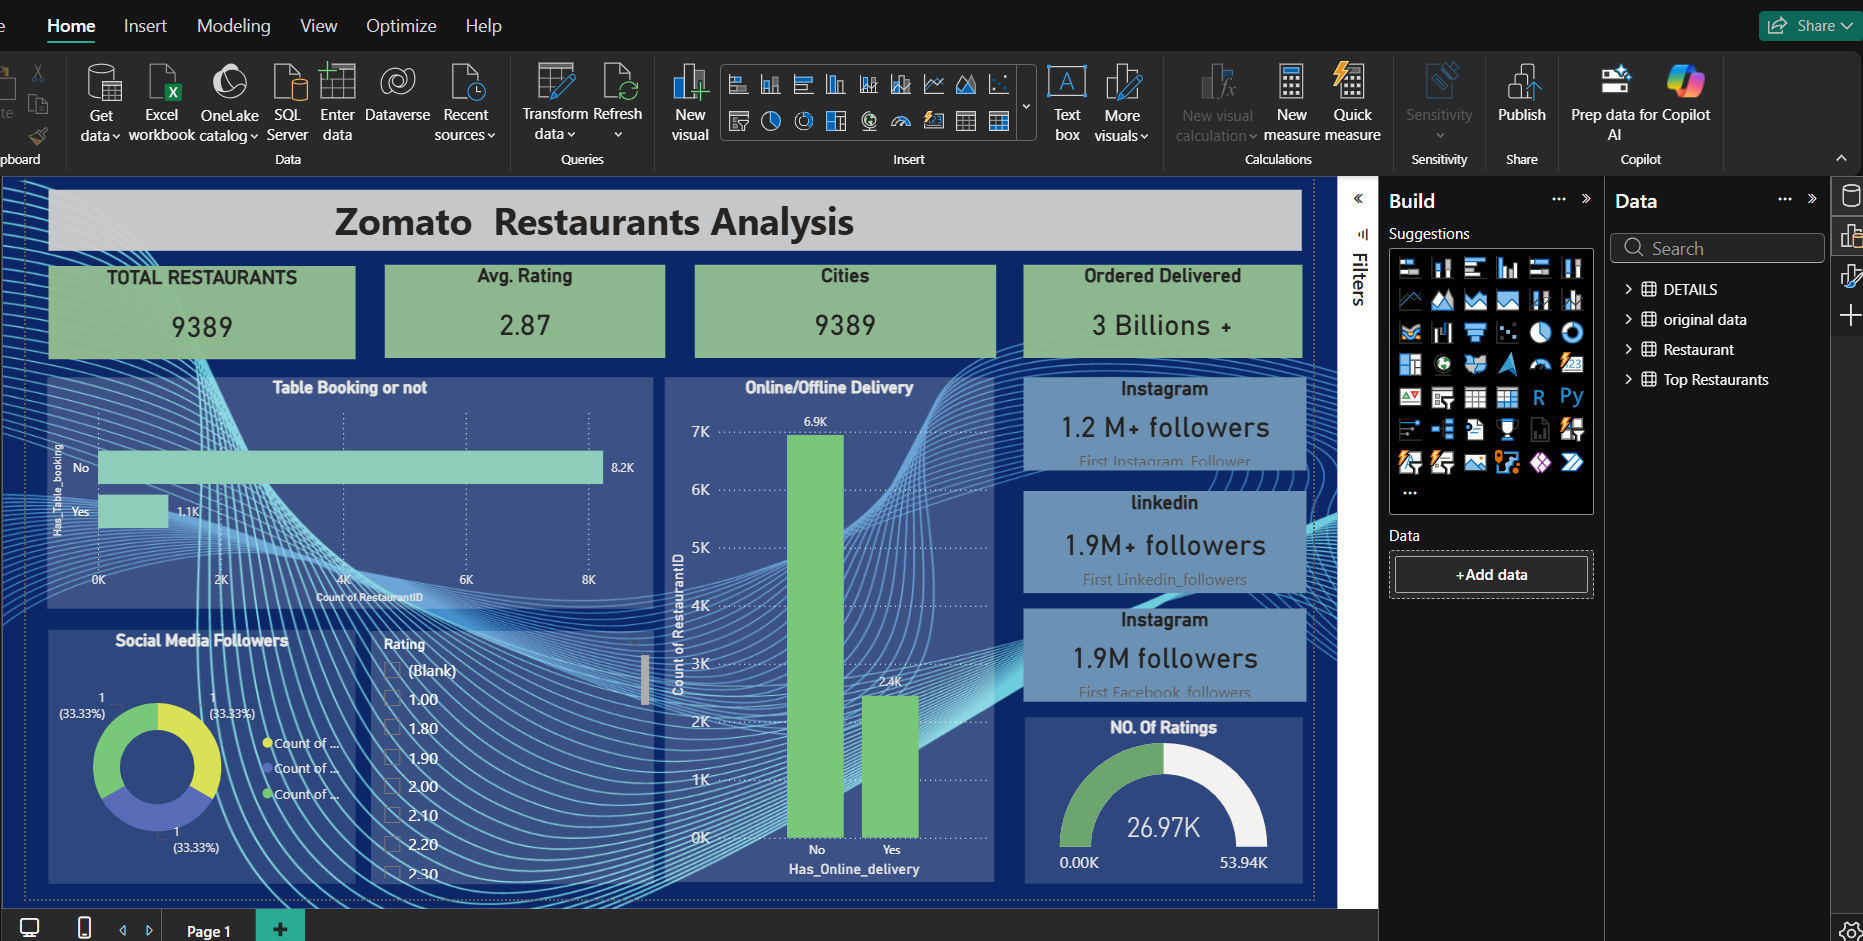

The dashboard page shown, as its layout file describes it:
{"tool":"powerbi","page":{"name":"Page 1","canvas":[1280,720],"ordinal":0},"visuals":[{"type":"card","title":"TOTAL RESTAURANTS","fields":{"Values":["CountNonNull(original data.RestaurantID)"]},"box":[22.3,89.1,305.8,93.2],"z":0},{"type":"card","title":"Avg. Rating","fields":{"Values":["Avg(original data.Rating)"]},"box":[357.1,88.4,279.5,93.2],"z":1000},{"type":"card","title":"Cities","fields":{"Values":["CountNonNull(original data.City)"]},"box":[665,88.4,299.7,93.2],"z":2000},{"type":"card","title":"Ordered Delivered","fields":{"Values":["Min(DETAILS.Ordered delevered)"]},"box":[993.1,88.4,277.5,93.2],"z":3000},{"type":"textbox","box":[22.3,14.2,1247.6,60.8],"z":4000},{"type":"card","title":"Instagram","fields":{"Values":["Min(DETAILS.Instagram_Follower)"]},"box":[993.1,199.8,281.5,93.2],"z":5000},{"type":"card","title":"linkedin","fields":{"Values":["Min(DETAILS.Linkedin_followers)"]},"box":[993.1,313.2,281.5,101.3],"z":6000},{"type":"card","title":"Instagram","fields":{"Values":["Min(DETAILS.Facebook_followers)"]},"box":[993.1,430.7,281.5,93.2],"z":7000},{"type":"donutChart","title":"Social Media Followers","fields":{"Y":["CountNonNull(DETAILS.Facebook_followers)","CountNonNull(DETAILS.Instagram_Follower)","CountNonNull(DETAILS.Linkedin_followers)"]},"box":[22.3,451.6,305.8,253.2],"z":8000},{"type":"columnChart","title":"Online/Offline Delivery","fields":{"Category":["original data.Has_Online_delivery"],"Y":["CountNonNull(original data.RestaurantID)"]},"box":[635.9,200.5,328.1,502.3],"z":9000},{"type":"gauge","title":"NO. Of Ratings","fields":{"Y":["Sum(original data.Rating)"]},"box":[993.9,538.4,276.6,165.6],"z":10000},{"type":"clusteredBarChart","title":"Table Booking or not","fields":{"Category":["original data.Has_Table_booking"],"Y":["CountNonNull(original data.RestaurantID)"]},"box":[21.5,200.4,603,230.3],"z":11000},{"type":"slicer","title":"Social Media Followers","fields":{"Values":["original data.Rating"]},"box":[342.9,452.2,281.6,251.8],"z":12000}]}

Visuals, with their boxes on the page's 1280x720 design canvas (x1, y1, x2, y2). These are canvas units, not pixel positions in the 1863x941 screenshot, which may show the page scaled, cropped or inside an application window:
"TOTAL RESTAURANTS" card: <bbox>22, 89, 328, 182</bbox>
"Avg. Rating" card: <bbox>357, 88, 637, 182</bbox>
"Cities" card: <bbox>665, 88, 965, 182</bbox>
"Ordered Delivered" card: <bbox>993, 88, 1271, 182</bbox>
textbox: <bbox>22, 14, 1270, 75</bbox>
"Instagram" card: <bbox>993, 200, 1275, 293</bbox>
"linkedin" card: <bbox>993, 313, 1275, 414</bbox>
"Instagram" card: <bbox>993, 431, 1275, 524</bbox>
"Social Media Followers" donutChart: <bbox>22, 452, 328, 705</bbox>
"Online/Offline Delivery" columnChart: <bbox>636, 200, 964, 703</bbox>
"NO. Of Ratings" gauge: <bbox>994, 538, 1270, 704</bbox>
"Table Booking or not" clusteredBarChart: <bbox>22, 200, 624, 431</bbox>
"Social Media Followers" slicer: <bbox>343, 452, 624, 704</bbox>
